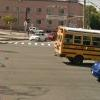Bus: (52, 20, 97, 65)
